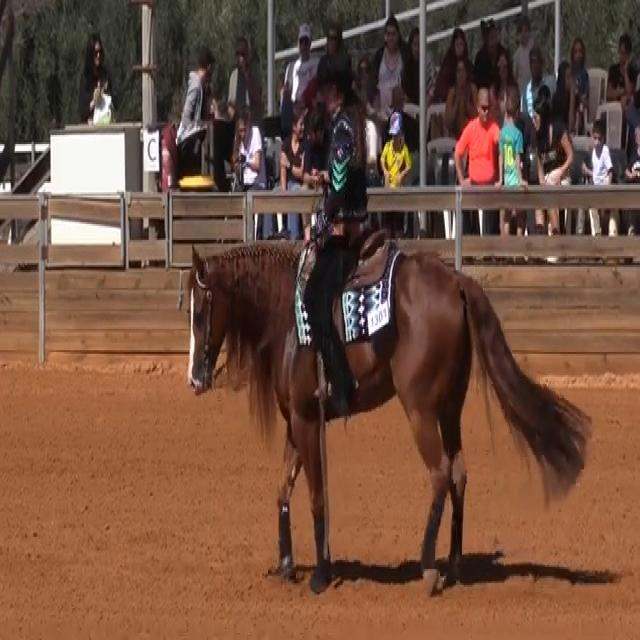horse: (183, 233, 592, 597)
